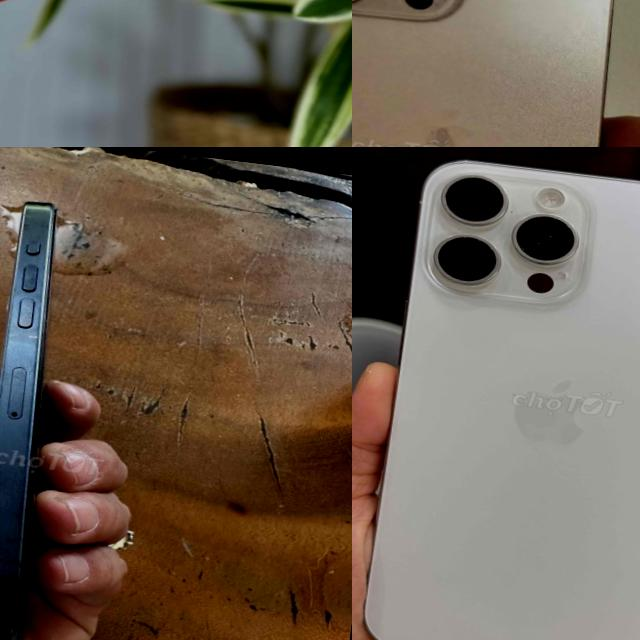gen_15: (352, 147, 640, 640), (0, 184, 84, 640)
gen_16: (352, 0, 640, 147)
scratch: (0, 473, 34, 552), (2, 320, 60, 360)
